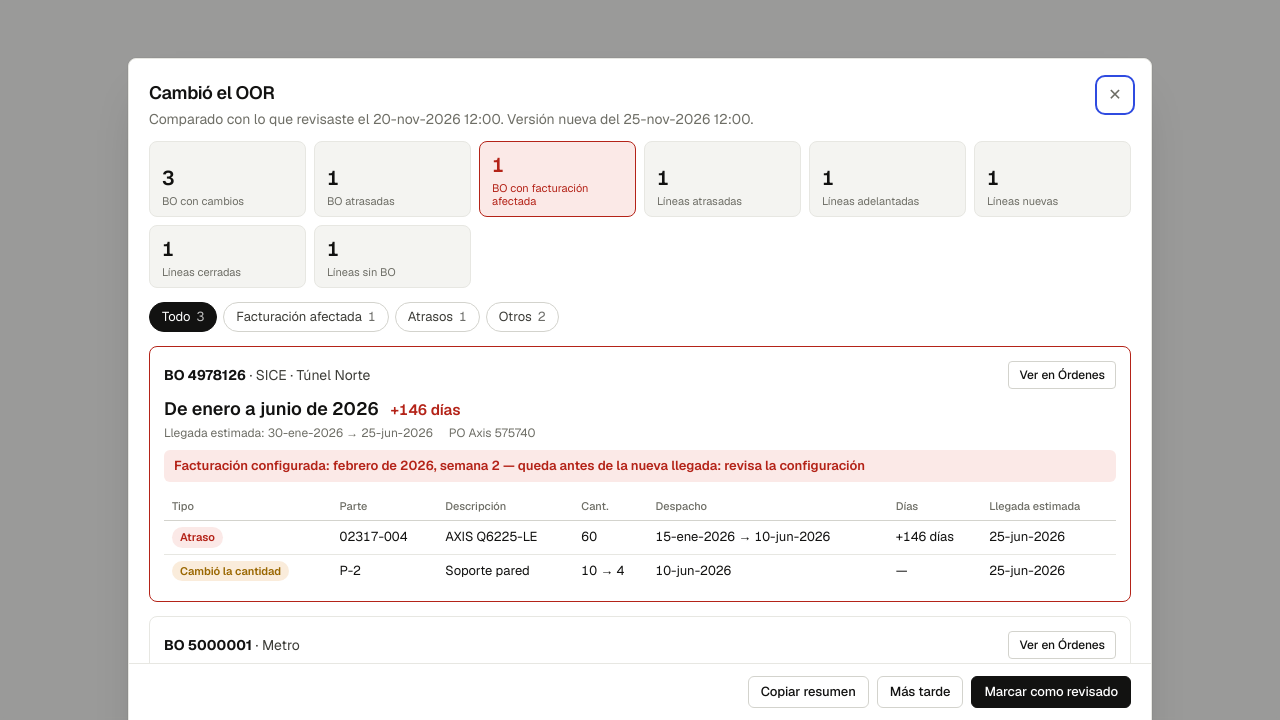
Test case: CambiosOorDialogo › los filtros muestran conteo y acotan las tarjetas
The width and height of the screenshot is (1280, 720).
Later steps or results of the test are not shown.
Click the button "Facturación afectada 1".
click(306, 317)  # box [223,302,389,332]
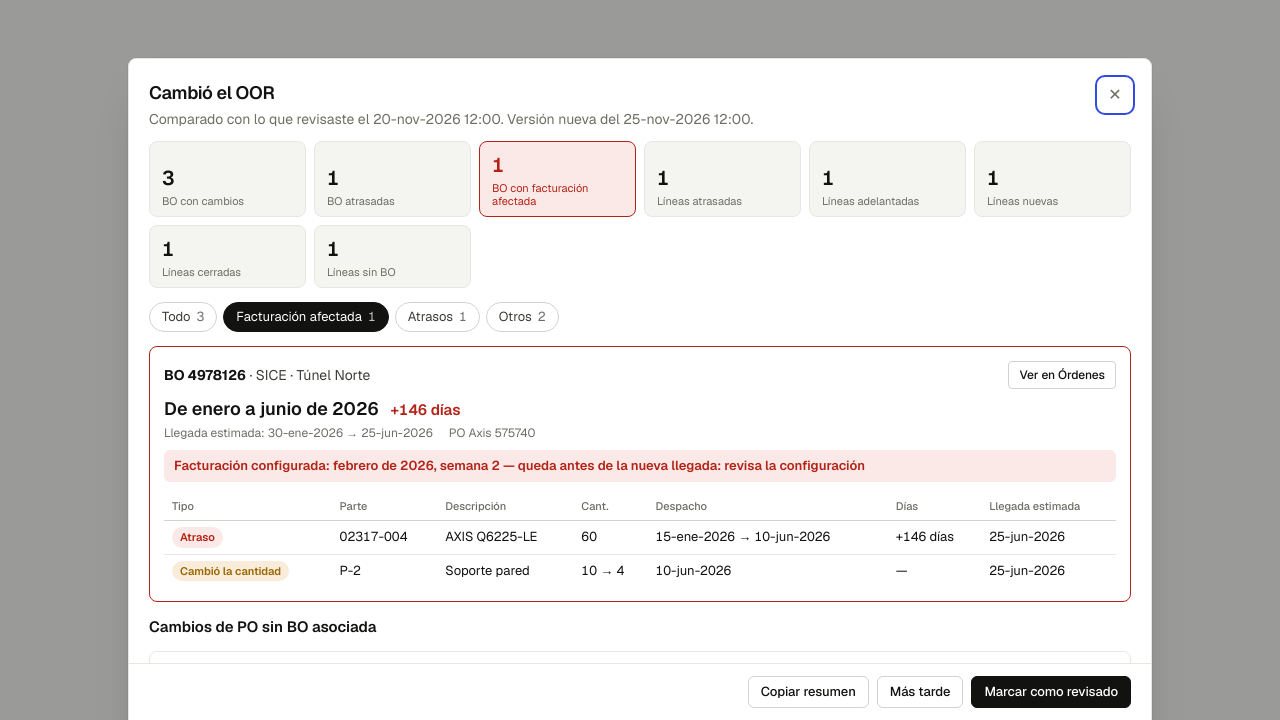
Expected: the number of elements "BO " is 1, [149,346,1131,602]
Result: the button "Facturación afectada 1" is pressed at [223,302,389,332]
